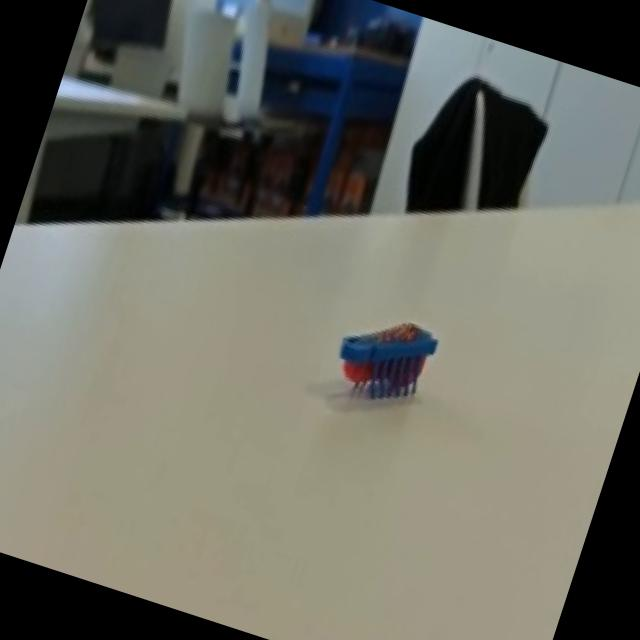1_NanoBug_Azul: (284, 244, 494, 465)
